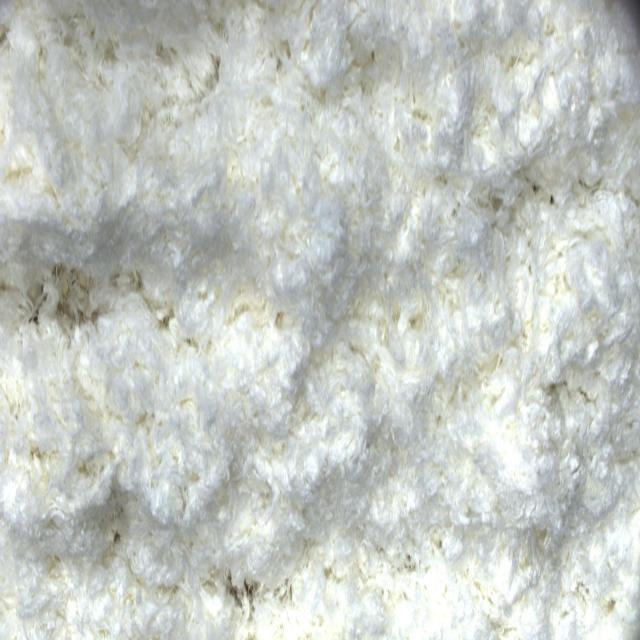dust: (52, 267, 92, 323), (227, 572, 256, 607), (25, 288, 47, 328)
